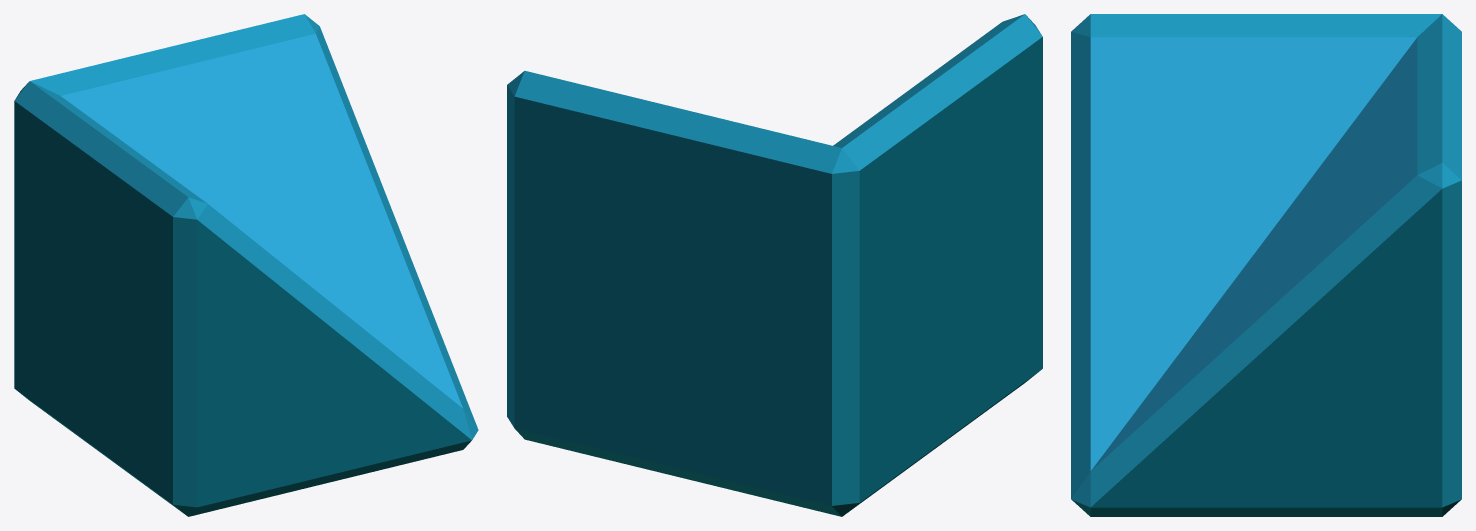
Rendered from m_kub_diagonalBlue_cornerIn.FBX.
The picture shows the model from 3 angles, left to right: view 1: azimuth 30°, elevation 25°; view 2: azimuth 150°, elevation 25°; view 3: azimuth 270°, elevation 25°; orthographic projection. The views are drawn at different scales.
Visible parts, largest first — view 1: m_kub_diagonalBlue_cornerIn; view 2: m_kub_diagonalBlue_cornerIn; view 3: m_kub_diagonalBlue_cornerIn.
Boxes of the visible parts, x1,y1,x2,y2 form: m_kub_diagonalBlue_cornerIn: (14,14,478,516); m_kub_diagonalBlue_cornerIn: (507,14,1042,516); m_kub_diagonalBlue_cornerIn: (1071,14,1461,516).
Bounding box in the file's own units: 2 × 2 × 2.
